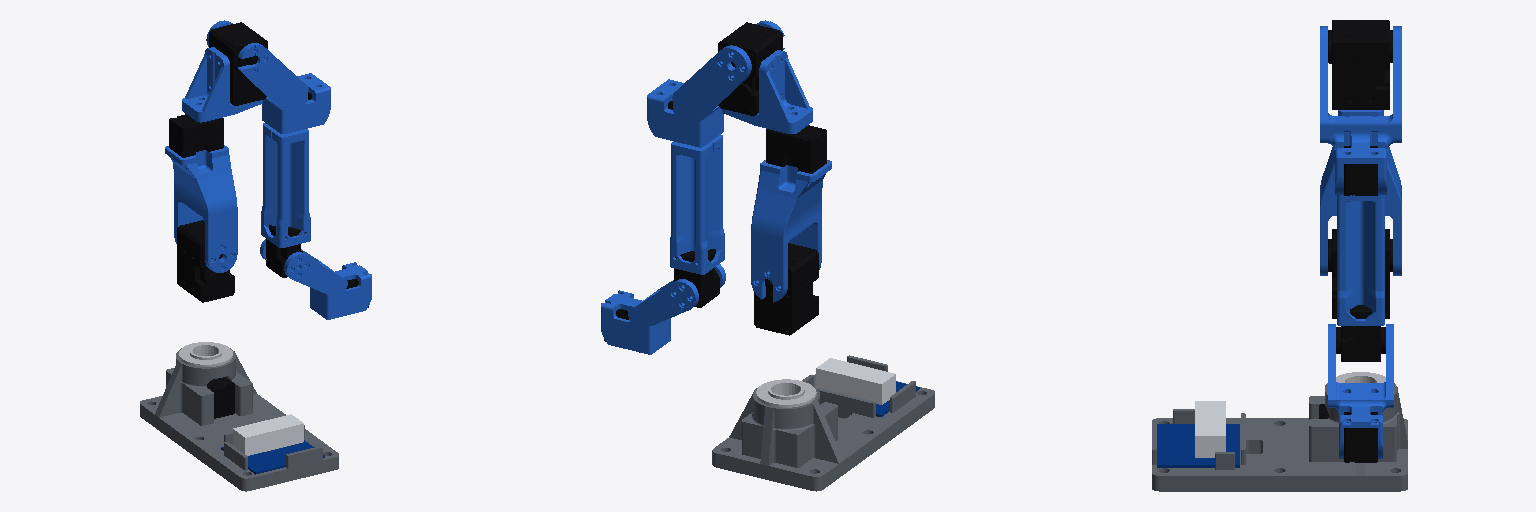
The robot description file, URDF, robot "ditto_leader_2xm_link5b":
<?xml version="1.0"?>
<!-- FACTR-style leader arm for the uFactory xArm7, 1:2 scale, variant 2xm, link 5 option b. Generated by leader/build.py. -->
<!-- Joint frames are the xArm7 joint frames with every length halved: same joint vector => same pose. -->
<!-- Inertial values are estimates from CAD volume and nominal servo masses. -->
<!-- link7 is the tool flange (servo 7 horn): the arm ends there, no handle or gripper is included. -->
<robot name="ditto_leader_2xm_link5b">
  <material name="print_reused"><color rgba="0.42 0.44 0.48 1"/></material>
  <material name="print_new"><color rgba="0.20 0.45 0.85 1"/></material>
  <material name="servo"><color rgba="0.09 0.09 0.10 1"/></material>
  <material name="steel"><color rgba="0.75 0.76 0.78 1"/></material>
  <material name="pcb"><color rgba="0.05 0.25 0.55 1"/></material>
  <material name="u2d2"><color rgba="0.85 0.87 0.90 1"/></material>
  <link name="base_link">
    <visual>
      <origin xyz="0.000000000 0.000000000 0.000000000" rpy="0.000000000000 -0.000000000000 0.000000000000"/>
      <geometry><mesh filename="meshes/factr_base.stl" scale="0.001 0.001 0.001"/></geometry>
      <material name="print_reused"/>
    </visual>
    <visual>
      <origin xyz="0.000000000 0.000000000 0.000000000" rpy="0.000000000000 -0.000000000000 0.000000000000"/>
      <geometry><mesh filename="meshes/bearing_3_4in.stl" scale="0.001 0.001 0.001"/></geometry>
      <material name="steel"/>
    </visual>
    <visual>
      <origin xyz="0.000000000 0.000000000 0.000000000" rpy="0.000000000000 -0.000000000000 0.000000000000"/>
      <geometry><mesh filename="meshes/servo1_xc330.stl" scale="0.001 0.001 0.001"/></geometry>
      <material name="servo"/>
    </visual>
    <visual>
      <origin xyz="0.000000000 0.000000000 0.000000000" rpy="0.000000000000 -0.000000000000 0.000000000000"/>
      <geometry><mesh filename="meshes/power_hub_board.stl" scale="0.001 0.001 0.001"/></geometry>
      <material name="pcb"/>
    </visual>
    <visual>
      <origin xyz="0.000000000 0.000000000 0.000000000" rpy="0.000000000000 -0.000000000000 0.000000000000"/>
      <geometry><mesh filename="meshes/u2d2.stl" scale="0.001 0.001 0.001"/></geometry>
      <material name="u2d2"/>
    </visual>
    <collision>
      <origin xyz="0.000000000 0.000000000 0.000000000" rpy="0.000000000000 -0.000000000000 0.000000000000"/>
      <geometry><mesh filename="meshes/factr_base.stl" scale="0.001 0.001 0.001"/></geometry>
      
    </collision>
  </link>
  <link name="link1">
    <inertial>
      <origin xyz="-0.000000 -0.000000 -0.023192" rpy="0 0 0"/>
      <mass value="0.11109"/>
      <inertia ixx="7.9205e-05" ixy="3.7288e-15" ixz="-3.6903e-17" iyy="7.8156e-05" iyz="-2.8443e-09" izz="2.1080e-05"/>
    </inertial>
    <visual>
      <origin xyz="0.000000000 0.000000000 0.000000000" rpy="0.000000000000 -0.000000000000 0.000000000000"/>
      <geometry><mesh filename="meshes/link1.stl" scale="0.001 0.001 0.001"/></geometry>
      <material name="print_new"/>
    </visual>
    <collision>
      <origin xyz="0.000000000 0.000000000 0.000000000" rpy="0.000000000000 -0.000000000000 0.000000000000"/>
      <geometry><mesh filename="meshes/link1.stl" scale="0.001 0.001 0.001"/></geometry>
      
    </collision>
    <visual>
      <origin xyz="0.000000000 0.000000000 0.000000000" rpy="-1.570796326795 -0.000000000000 -0.000000000000"/>
      <geometry><mesh filename="meshes/xm430.stl" scale="0.001 0.001 0.001"/></geometry>
      <material name="servo"/>
    </visual>
    <collision>
      <origin xyz="0.000000000 0.000000000 -0.012000000" rpy="-1.570796326795 -0.000000000000 -0.000000000000"/>
      <geometry><box size="0.02820 0.04620 0.03370"/></geometry>
    </collision>
  </link>
  <link name="link2">
    <inertial>
      <origin xyz="-0.004755 -0.063664 -0.000113" rpy="0 0 0"/>
      <mass value="0.05426"/>
      <inertia ixx="4.5631e-05" ixy="-4.0201e-06" ixz="2.9227e-08" iyy="1.1604e-05" iyz="4.2209e-07" izz="4.3114e-05"/>
    </inertial>
    <visual>
      <origin xyz="0.000000000 0.000000000 0.000000000" rpy="0.000000000000 -0.000000000000 0.000000000000"/>
      <geometry><mesh filename="meshes/2xm/link2.stl" scale="0.001 0.001 0.001"/></geometry>
      <material name="print_new"/>
    </visual>
    <collision>
      <origin xyz="0.000000000 0.000000000 0.000000000" rpy="0.000000000000 -0.000000000000 0.000000000000"/>
      <geometry><mesh filename="meshes/2xm/link2.stl" scale="0.001 0.001 0.001"/></geometry>
      
    </collision>
    <visual>
      <origin xyz="0.000000000 -0.088750000 0.000000000" rpy="0.000000000000 -1.570796326795 1.570796326795"/>
      <geometry><mesh filename="meshes/xc330.stl" scale="0.001 0.001 0.001"/></geometry>
      <material name="servo"/>
    </visual>
    <collision>
      <origin xyz="-0.007500000 -0.088750000 0.000000000" rpy="0.000000000000 -1.570796326795 1.570796326795"/>
      <geometry><box size="0.01970 0.03370 0.02270"/></geometry>
    </collision>
  </link>
  <link name="link3">
    <inertial>
      <origin xyz="0.023540 0.000000 -0.015056" rpy="0 0 0"/>
      <mass value="0.10012"/>
      <inertia ixx="3.1417e-05" ixy="1.0123e-15" ixz="-4.2624e-06" iyy="3.4073e-05" iyz="1.0572e-15" izz="2.1124e-05"/>
    </inertial>
    <visual>
      <origin xyz="0.000000000 0.000000000 0.000000000" rpy="0.000000000000 -0.000000000000 0.000000000000"/>
      <geometry><mesh filename="meshes/2xm/link3.stl" scale="0.001 0.001 0.001"/></geometry>
      <material name="print_new"/>
    </visual>
    <collision>
      <origin xyz="0.000000000 0.000000000 0.000000000" rpy="0.000000000000 -0.000000000000 0.000000000000"/>
      <geometry><mesh filename="meshes/2xm/link3.stl" scale="0.001 0.001 0.001"/></geometry>
      
    </collision>
    <visual>
      <origin xyz="0.026250000 0.000000000 0.000000000" rpy="-1.570796326795 0.000000000000 -3.141592653590"/>
      <geometry><mesh filename="meshes/xm430.stl" scale="0.001 0.001 0.001"/></geometry>
      <material name="servo"/>
    </visual>
    <collision>
      <origin xyz="0.026250000 0.000000000 -0.012000000" rpy="-1.570796326795 0.000000000000 -3.141592653590"/>
      <geometry><box size="0.02820 0.04620 0.03370"/></geometry>
    </collision>
  </link>
  <link name="link4">
    <inertial>
      <origin xyz="0.036651 -0.042677 -0.000165" rpy="0 0 0"/>
      <mass value="0.06131"/>
      <inertia ixx="3.0455e-05" ixy="1.3523e-05" ixz="-4.2318e-07" iyy="2.7591e-05" iyz="4.3157e-07" izz="3.6407e-05"/>
    </inertial>
    <visual>
      <origin xyz="0.000000000 0.000000000 0.000000000" rpy="0.000000000000 -0.000000000000 0.000000000000"/>
      <geometry><mesh filename="meshes/link4.stl" scale="0.001 0.001 0.001"/></geometry>
      <material name="print_new"/>
    </visual>
    <collision>
      <origin xyz="0.000000000 0.000000000 0.000000000" rpy="0.000000000000 -0.000000000000 0.000000000000"/>
      <geometry><mesh filename="meshes/link4.stl" scale="0.001 0.001 0.001"/></geometry>
      
    </collision>
    <visual>
      <origin xyz="0.038750000 -0.055500000 0.000000000" rpy="0.000000000000 1.570796326795 -1.570796326795"/>
      <geometry><mesh filename="meshes/xc330.stl" scale="0.001 0.001 0.001"/></geometry>
      <material name="servo"/>
    </visual>
    <collision>
      <origin xyz="0.046250000 -0.055500000 0.000000000" rpy="0.000000000000 1.570796326795 -1.570796326795"/>
      <geometry><box size="0.01970 0.03370 0.02270"/></geometry>
    </collision>
  </link>
  <link name="link5">
    <inertial>
      <origin xyz="0.000002 -0.000000 -0.038523" rpy="0 0 0"/>
      <mass value="0.05309"/>
      <inertia ixx="6.3570e-05" ixy="2.1139e-16" ixz="5.0445e-09" iyy="6.2750e-05" iyz="-9.0503e-16" izz="5.5747e-06"/>
    </inertial>
    <visual>
      <origin xyz="0.000000000 0.000000000 0.000000000" rpy="0.000000000000 -0.000000000000 0.000000000000"/>
      <geometry><mesh filename="meshes/link5b.stl" scale="0.001 0.001 0.001"/></geometry>
      <material name="print_new"/>
    </visual>
    <collision>
      <origin xyz="0.000000000 0.000000000 0.000000000" rpy="0.000000000000 -0.000000000000 0.000000000000"/>
      <geometry><mesh filename="meshes/link5b.stl" scale="0.001 0.001 0.001"/></geometry>
      
    </collision>
    <visual>
      <origin xyz="0.000000000 0.000000000 0.000000000" rpy="-1.570796326795 0.000000000000 -3.141592653590"/>
      <geometry><mesh filename="meshes/xc330_idler.stl" scale="0.001 0.001 0.001"/></geometry>
      <material name="servo"/>
    </visual>
    <collision>
      <origin xyz="0.000000000 0.000000000 -0.007500000" rpy="-1.570796326795 0.000000000000 -3.141592653590"/>
      <geometry><box size="0.01970 0.03370 0.02270"/></geometry>
    </collision>
  </link>
  <link name="link6">
    <inertial>
      <origin xyz="0.037248 0.030539 0.000021" rpy="0 0 0"/>
      <mass value="0.04366"/>
      <inertia ixx="1.1742e-05" ixy="-6.4941e-06" ixz="3.4125e-08" iyy="1.5637e-05" iyz="2.8753e-08" izz="1.8933e-05"/>
    </inertial>
    <visual>
      <origin xyz="0.000000000 0.000000000 0.000000000" rpy="0.000000000000 -0.000000000000 0.000000000000"/>
      <geometry><mesh filename="meshes/link6.stl" scale="0.001 0.001 0.001"/></geometry>
      <material name="print_new"/>
    </visual>
    <collision>
      <origin xyz="0.000000000 0.000000000 0.000000000" rpy="0.000000000000 -0.000000000000 0.000000000000"/>
      <geometry><mesh filename="meshes/link6.stl" scale="0.001 0.001 0.001"/></geometry>
      
    </collision>
    <visual>
      <origin xyz="0.038000000 0.038000000 0.000000000" rpy="0.000000000000 -1.570796326795 -1.570796326795"/>
      <geometry><mesh filename="meshes/xc330.stl" scale="0.001 0.001 0.001"/></geometry>
      <material name="servo"/>
    </visual>
    <collision>
      <origin xyz="0.045500000 0.038000000 0.000000000" rpy="0.000000000000 -1.570796326795 -1.570796326795"/>
      <geometry><box size="0.01970 0.03370 0.02270"/></geometry>
    </collision>
  </link>
  <link name="link7">
    <inertial>
      <origin xyz="0.000000 0.000000 0.002500" rpy="0 0 0"/>
      <mass value="0.00100"/>
      <inertia ixx="2.2083e-08" ixy="0.0000e+00" ixz="0.0000e+00" iyy="2.2083e-08" iyz="0.0000e+00" izz="4.2667e-08"/>
    </inertial>
  </link>
  <joint name="joint1" type="revolute">
    <parent link="base_link"/>
    <child link="link1"/>
    <origin xyz="0.000000000 0.000000000 0.133500000" rpy="0.000000000000 -0.000000000000 0.000000000000"/>
    <axis xyz="0 0 1"/>
    <limit lower="-6.283185307179586" upper="6.283185307179586" effort="0.92" velocity="6.8"/>
  </joint>
  <joint name="joint2" type="revolute">
    <parent link="link1"/>
    <child link="link2"/>
    <origin xyz="0.000000000 0.000000000 0.000000000" rpy="-1.570796326795 -0.000000000000 0.000000000000"/>
    <axis xyz="0 0 1"/>
    <limit lower="-2.059" upper="2.0944" effort="3.0" velocity="6.8"/>
  </joint>
  <joint name="joint3" type="revolute">
    <parent link="link2"/>
    <child link="link3"/>
    <origin xyz="0.000000000 -0.146500000 0.000000000" rpy="1.570796326795 -0.000000000000 0.000000000000"/>
    <axis xyz="0 0 1"/>
    <limit lower="-6.283185307179586" upper="6.283185307179586" effort="0.92" velocity="6.8"/>
  </joint>
  <joint name="joint4" type="revolute">
    <parent link="link3"/>
    <child link="link4"/>
    <origin xyz="0.026250000 0.000000000 0.000000000" rpy="1.570796326795 -0.000000000000 0.000000000000"/>
    <axis xyz="0 0 1"/>
    <limit lower="-0.19198" upper="3.927" effort="3.0" velocity="6.8"/>
  </joint>
  <joint name="joint5" type="revolute">
    <parent link="link4"/>
    <child link="link5"/>
    <origin xyz="0.038750000 -0.171250000 0.000000000" rpy="1.570796326795 -0.000000000000 0.000000000000"/>
    <axis xyz="0 0 1"/>
    <limit lower="-6.283185307179586" upper="6.283185307179586" effort="0.92" velocity="6.8"/>
  </joint>
  <joint name="joint6" type="revolute">
    <parent link="link5"/>
    <child link="link6"/>
    <origin xyz="0.000000000 0.000000000 0.000000000" rpy="1.570796326795 -0.000000000000 0.000000000000"/>
    <axis xyz="0 0 1"/>
    <limit lower="-1.69297" upper="3.141592653589793" effort="0.92" velocity="6.8"/>
  </joint>
  <joint name="joint7" type="revolute">
    <parent link="link6"/>
    <child link="link7"/>
    <origin xyz="0.038000000 0.048500000 0.000000000" rpy="-1.570796326795 -0.000000000000 0.000000000000"/>
    <axis xyz="0 0 1"/>
    <limit lower="-6.283185307179586" upper="6.283185307179586" effort="0.92" velocity="6.8"/>
  </joint>
</robot>

--- Render facts (derived) ---
3 views of the same robot in one strip: view 1: azimuth 30°, elevation 25°; view 2: azimuth 150°, elevation 25°; view 3: azimuth 270°, elevation 25° (orthographic).
Model ditto_leader_2xm_link5b with 8 links and 7 joints (7 revolute), rooted at base_link, posed every joint at zero.
Visible links, largest first — view 1: base_link, link2, link5, link3, link4, link6, link1; view 2: base_link, link2, link5, link3, link4, link6, link1; view 3: base_link, link5, link4, link3, link6, link2, link1.
Boxes of the visible links, x1,y1,x2,y2 form: base_link: (140, 342, 338, 491); link2: (165, 114, 237, 272); link5: (261, 123, 310, 277); link3: (182, 22, 267, 122); link4: (206, 20, 330, 133); link6: (260, 239, 371, 319); link1: (177, 220, 234, 302); base_link: (712, 355, 934, 491); link2: (751, 125, 831, 302); link5: (670, 134, 724, 307); link3: (718, 22, 812, 133); link4: (647, 20, 784, 147); link6: (601, 264, 725, 354); link1: (754, 243, 818, 335); base_link: (1152, 372, 1407, 491); link5: (1336, 195, 1385, 361); link4: (1320, 26, 1401, 195); link3: (1328, 20, 1392, 116); link6: (1328, 324, 1393, 462); link2: (1320, 147, 1401, 275); link1: (1328, 229, 1392, 318).
Size in the robot's own frame: 0.1685 by 0.15 by 0.292 metres.
Meshes: 14 distinct files referenced, 16 mesh visuals loaded (13 binary STL); not drawn: 1 (reference not matched to a file when rendering).
